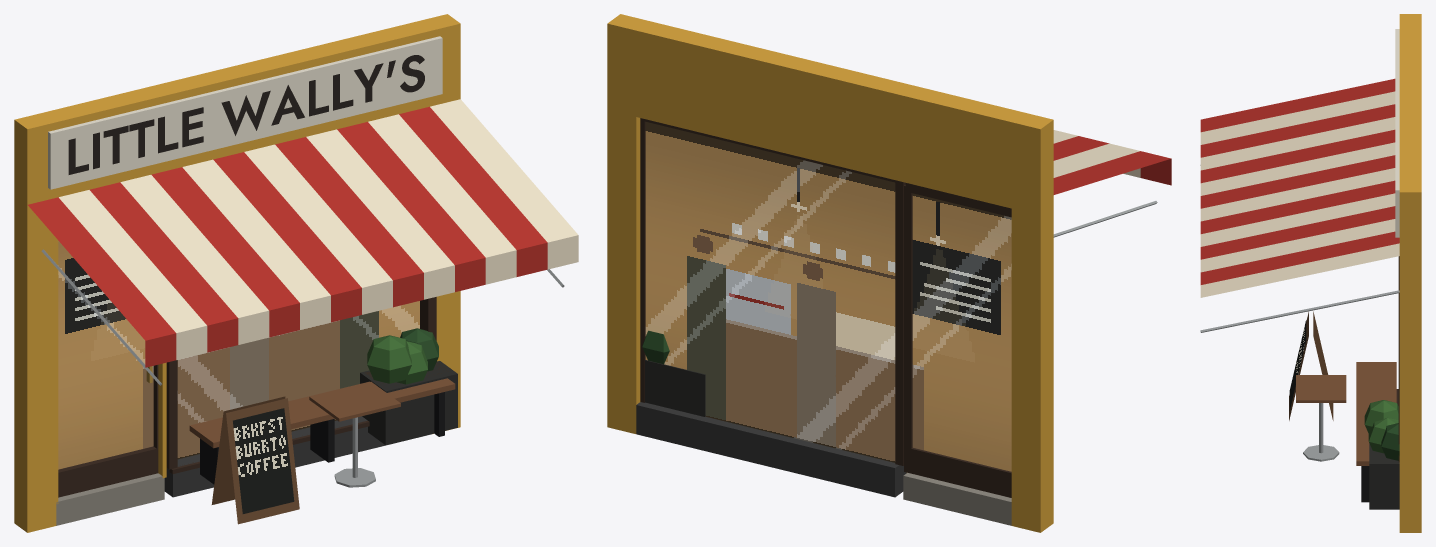
File: little_wallys.glb
The picture shows the model from 3 angles, left to right: view 1: azimuth 30°, elevation 25°; view 2: azimuth 150°, elevation 25°; view 3: azimuth 270°, elevation 25°; orthographic projection. The views are drawn at different scales.
Parts seen in each view (by area): view 1: LittleWallys; view 2: LittleWallys; view 3: LittleWallys.
Boxes of the visible parts, <box> form: LittleWallys: <box>14,14,578,532</box>; LittleWallys: <box>607,14,1171,532</box>; LittleWallys: <box>1200,14,1421,532</box>.
Size of what is drawn, in the model's own units: 4.2 by 3.74 by 2.2.
Materials: 19 (2 with a texture image).
